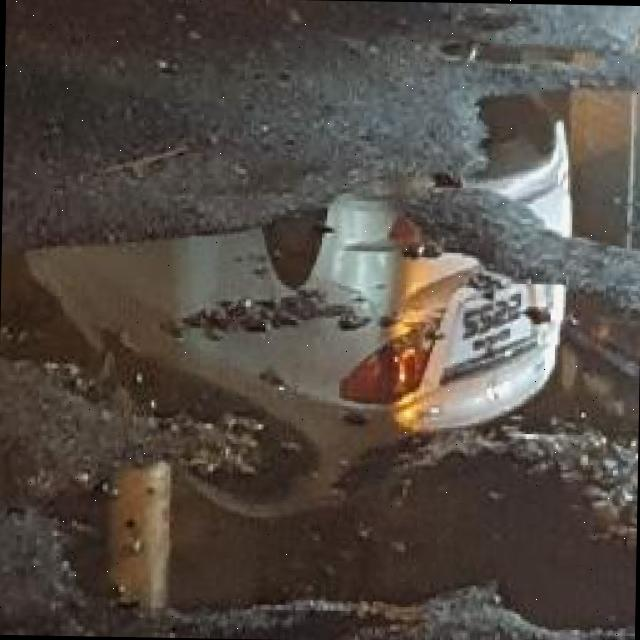waterlogging: (17, 62, 640, 640)
